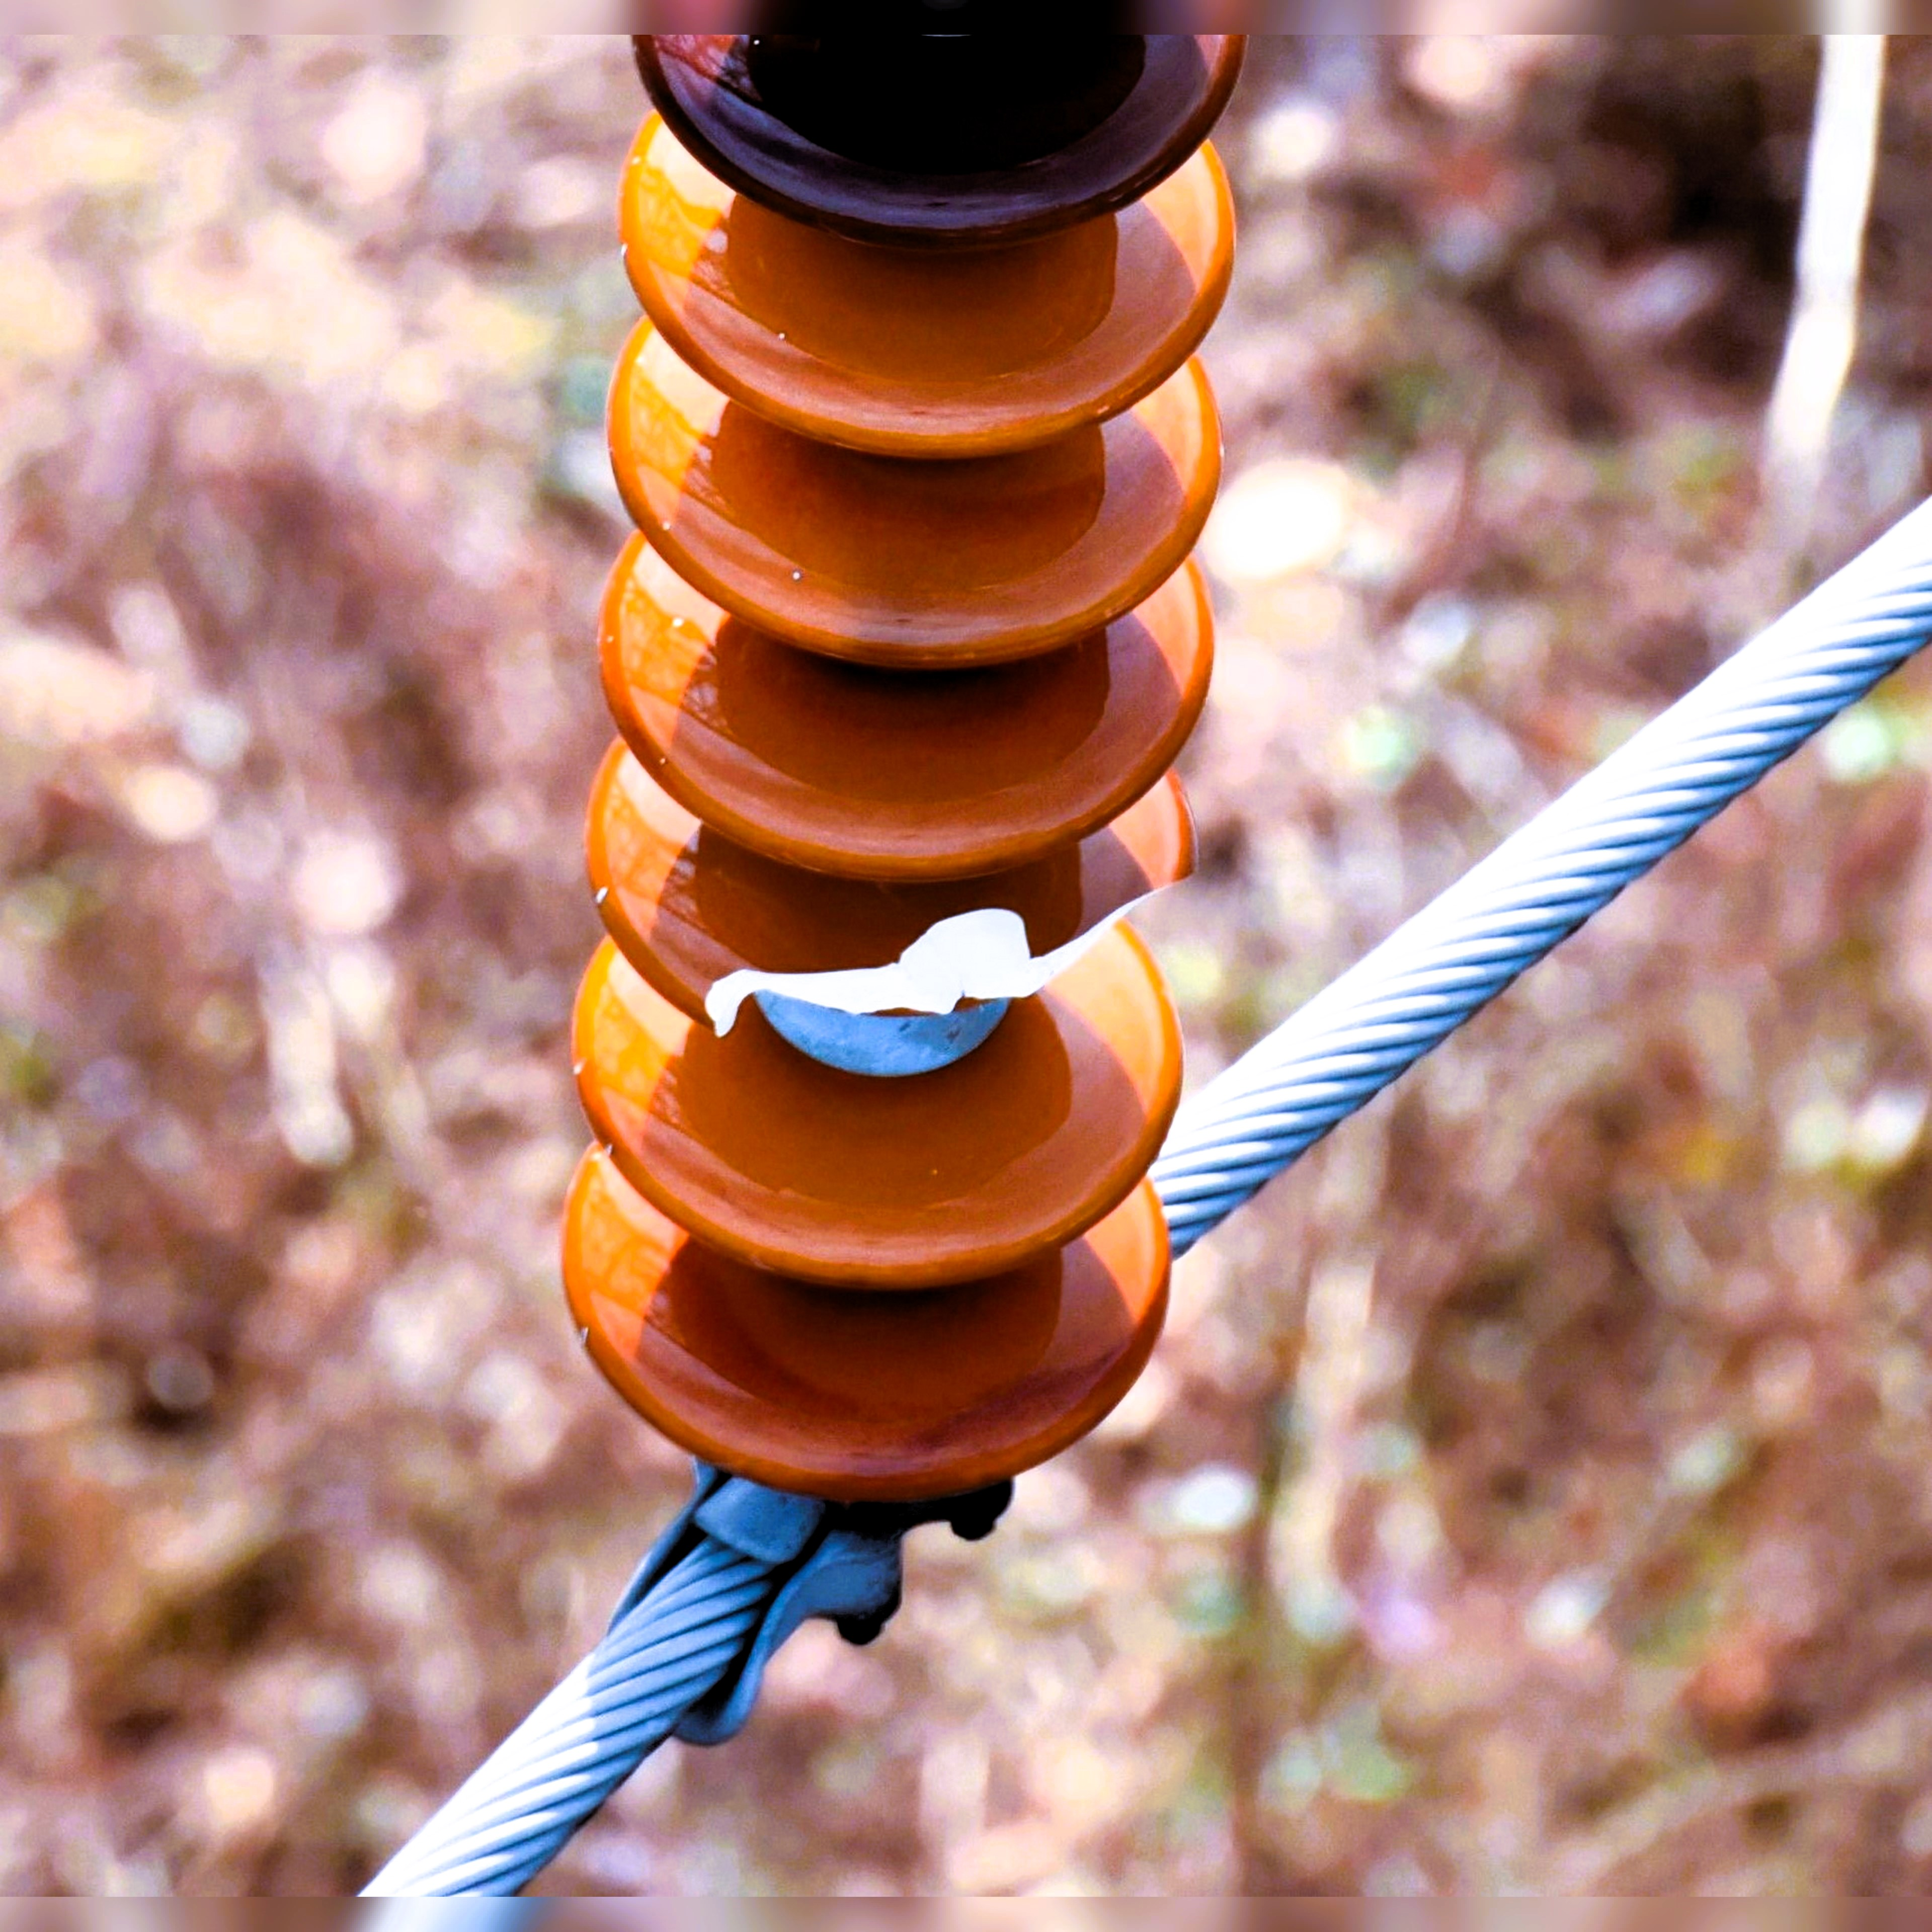insulator breakage: (547, 724, 1219, 1047)
